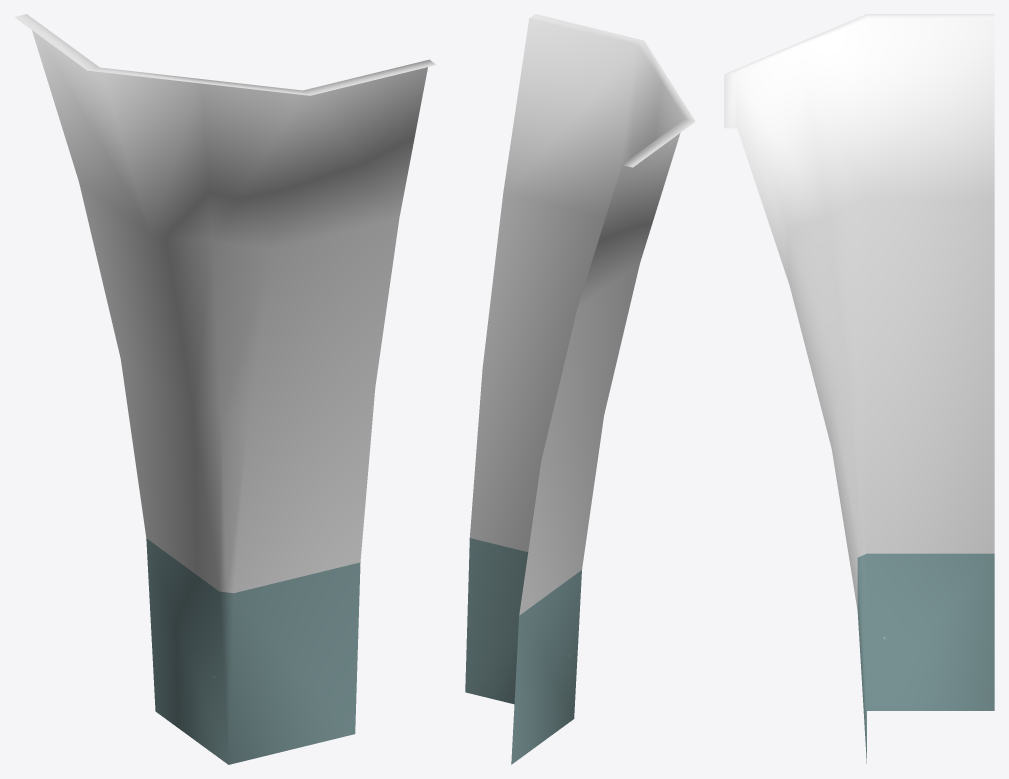
File: wall_corner_tall_test.fbx
3 renders of one model, left to right at view 1: azimuth 30°, elevation 25°; view 2: azimuth 150°, elevation 25°; view 3: azimuth 270°, elevation 25°, orthographic. The views are drawn at different scales.
Parts seen in each view (by area): view 1: wall_corner_tall_test; view 2: wall_corner_tall_test; view 3: wall_corner_tall_test.
Boxes of the visible parts, <box> form: wall_corner_tall_test: <box>14,14,436,764</box>; wall_corner_tall_test: <box>465,14,695,764</box>; wall_corner_tall_test: <box>724,14,994,763</box>.
Bounding box in the file's own units: 2.12 × 5.5 × 2.12.
